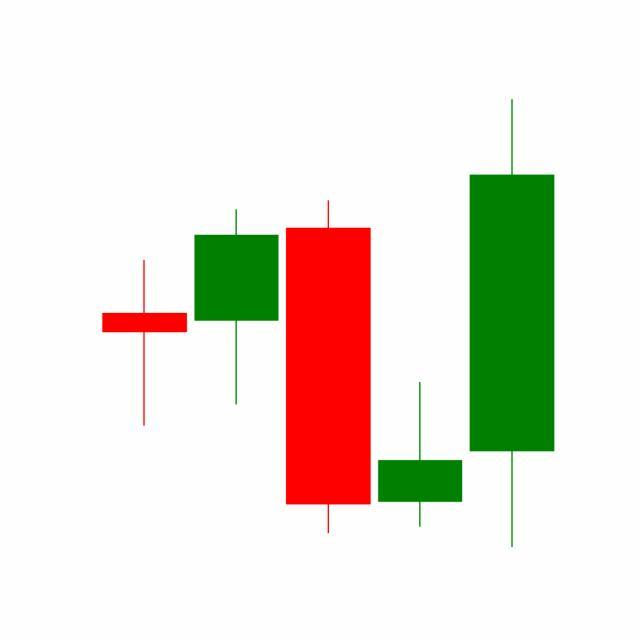Three Inside Up-Down: (280, 99, 555, 549)
